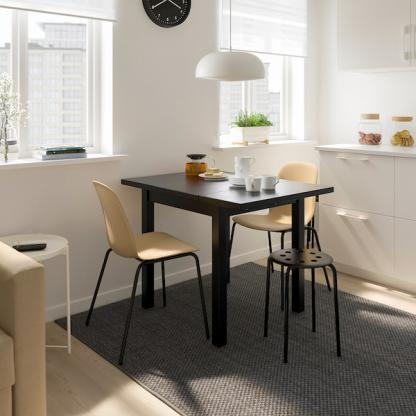chair: (87, 174, 209, 364), (230, 162, 330, 286), (257, 244, 346, 370)
clock: (134, 0, 193, 31)
light: (199, 0, 266, 99)
sofa: (0, 249, 52, 416)
table: (127, 154, 341, 345), (4, 232, 77, 361)
